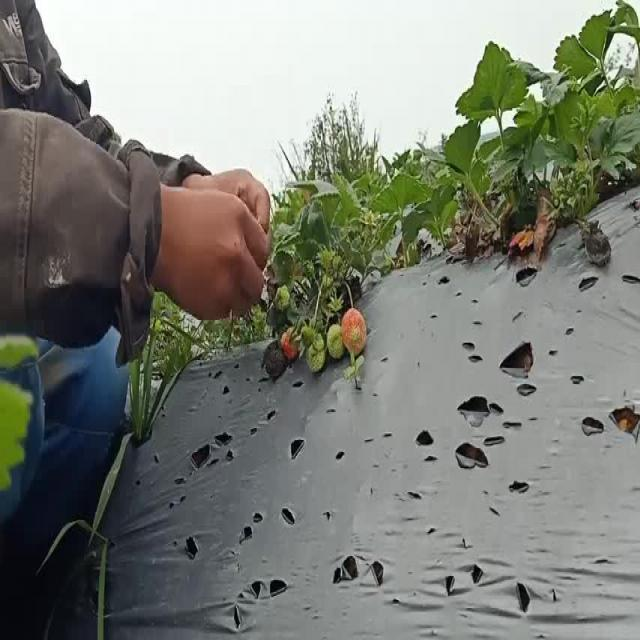Mancha negra Antracnosis: (582, 218, 615, 268), (258, 334, 288, 382)
